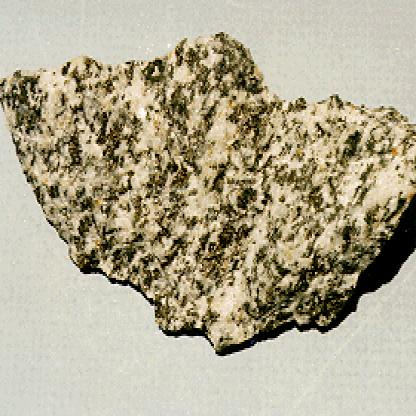Igneous_Diorite: (1, 22, 416, 344)
